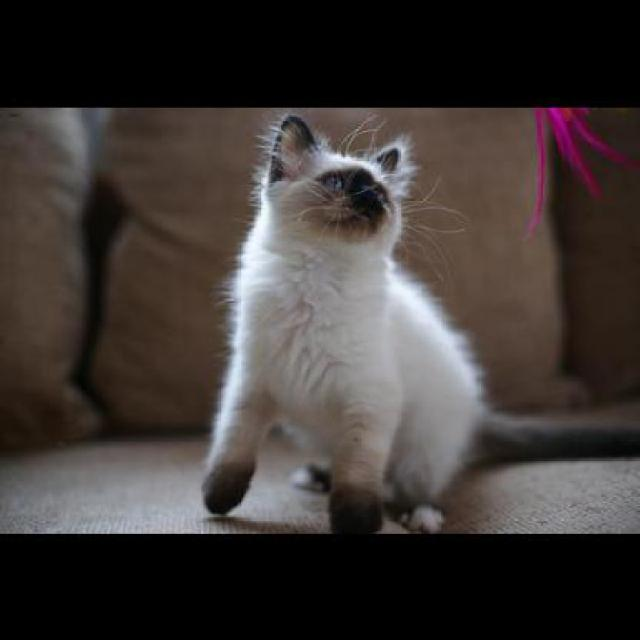unauthorized: (200, 111, 638, 534)
